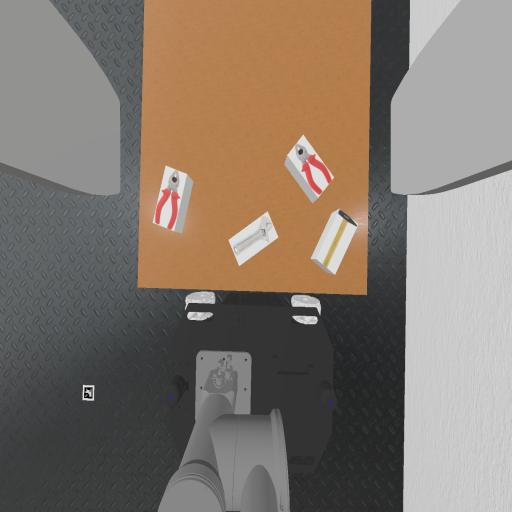hammer: (324, 210, 357, 265)
pliers: (296, 144, 332, 195), (155, 171, 180, 229)
wrench: (234, 218, 272, 254)
